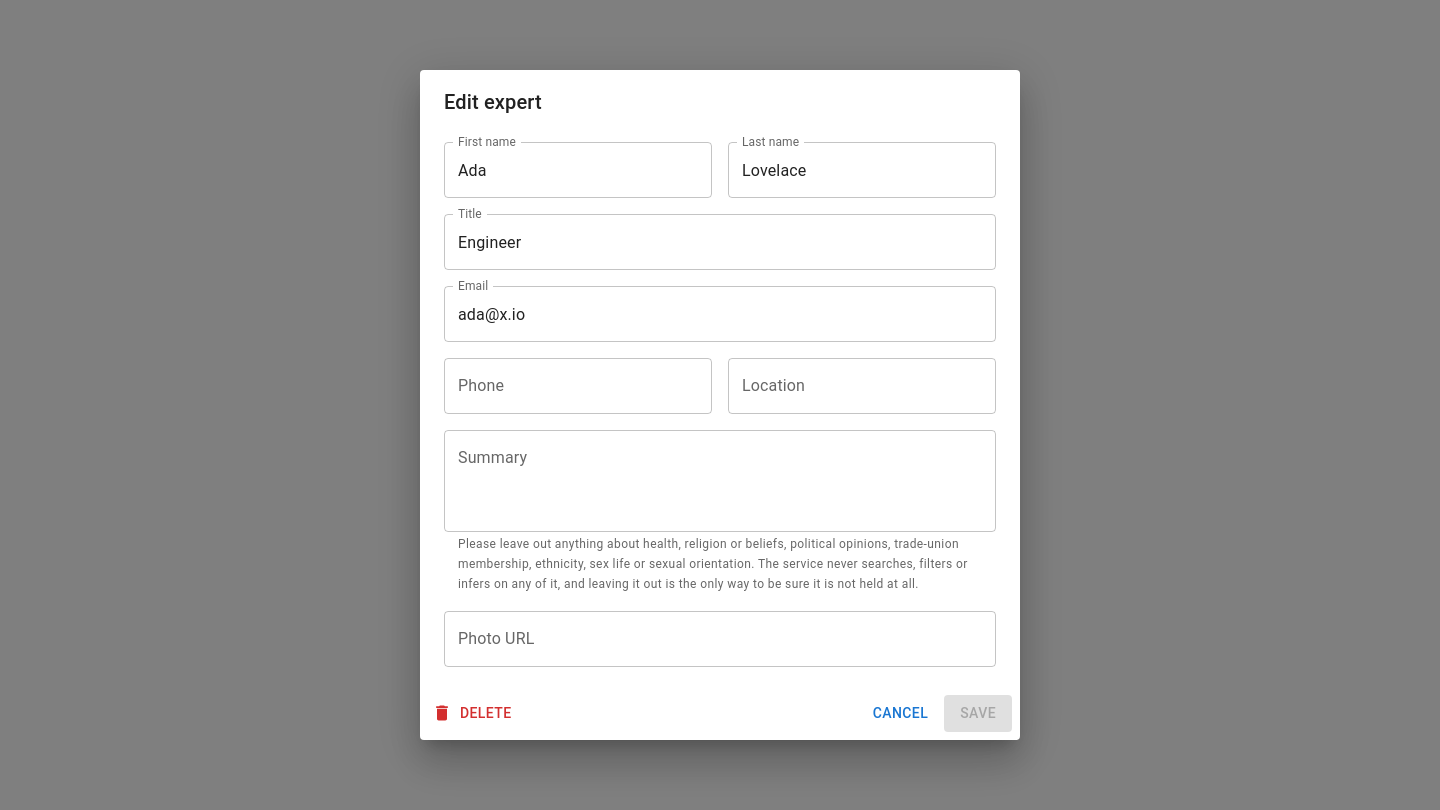
it: deleting from inside the expert form › reports its own failure on the form, with the confirmation dropped
Click the button "Delete" at (474, 713), box top-left (428, 695), bottom-right (520, 732)
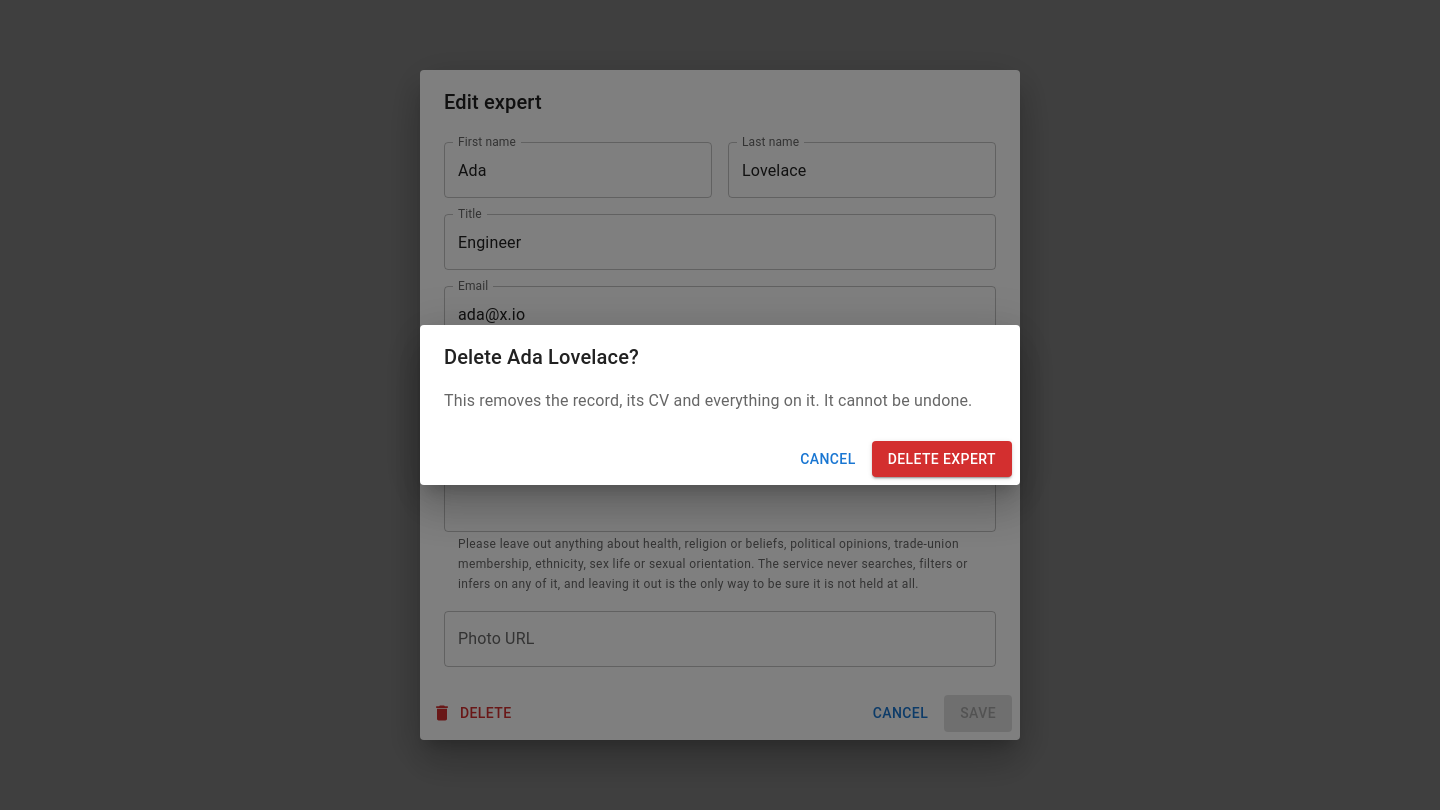
Click the button "Delete expert" at (942, 459), box top-left (872, 441), bottom-right (1012, 477)
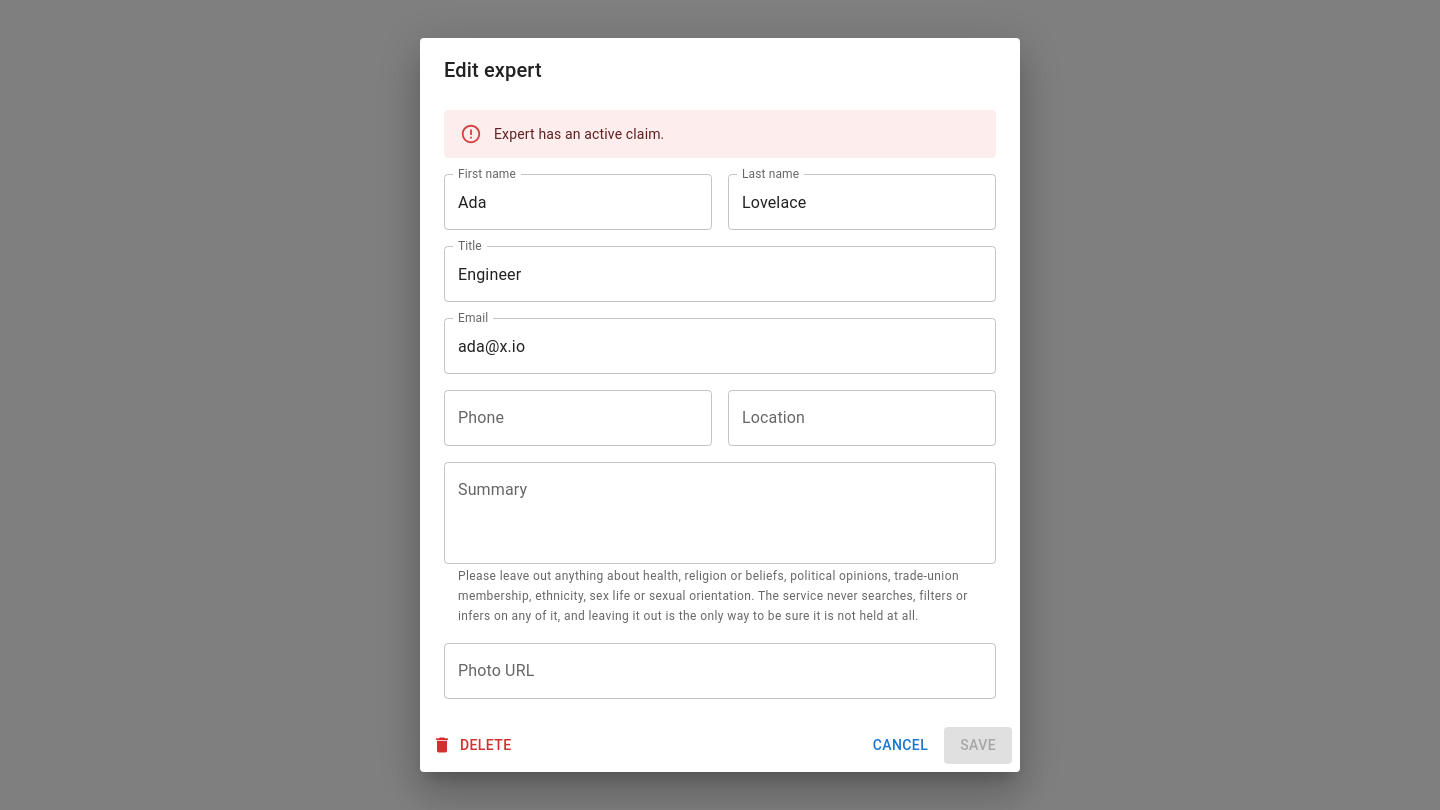
Now the text "Expert has an active claim." is shown, box top-left (494, 126), bottom-right (664, 142)
Now the button "Delete expert" is gone
